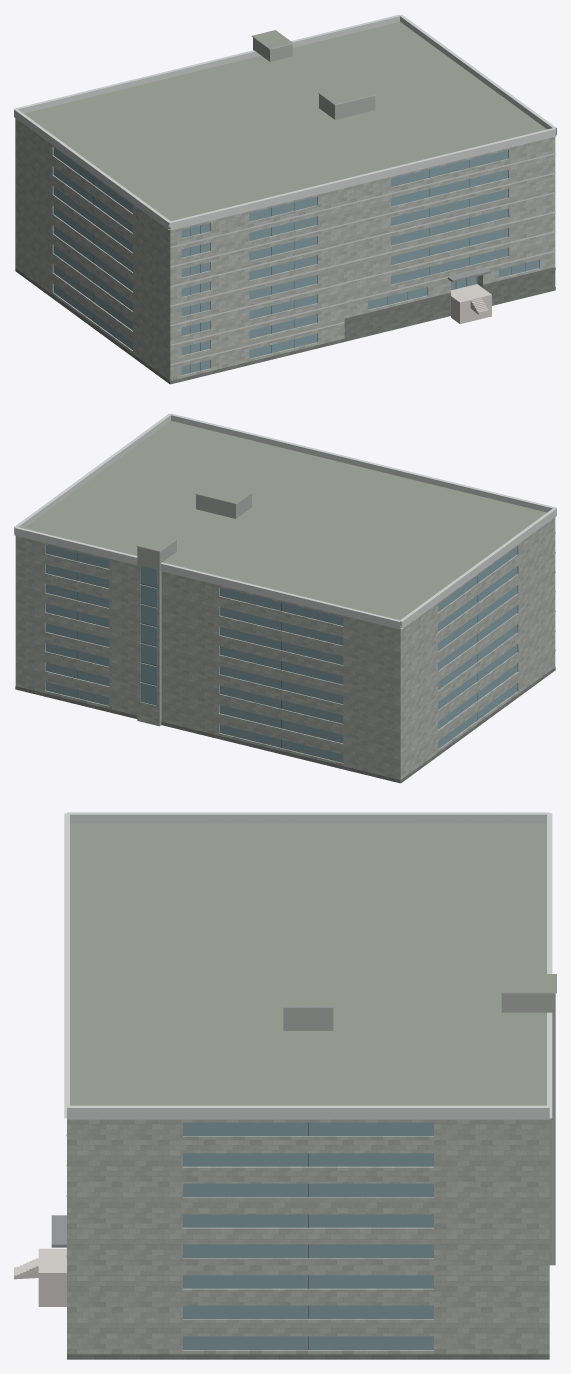
3 renders of one model, top to bottom at view 1: azimuth 30°, elevation 25°; view 2: azimuth 150°, elevation 25°; view 3: azimuth 270°, elevation 25°, orthographic. The views are drawn at different scales.
Parts seen in each view (by area): view 1: b38__wall, b38__roof, b38__glass, b38__trim, b38__base, b38__wall2, b38__entranceStair, b38__frame; view 2: b38__wall, b38__roof, b38__glass, b38__trim, b38__base, b38__wall2; view 3: b38__roof, b38__wall, b38__glass, b38__trim, b38__wall2, b38__base, b38__entranceStair.
Part boxes in pixels (x1,y1,x2,y2): b38__wall: (15, 118, 555, 383); b38__roof: (24, 22, 552, 341); b38__glass: (53, 147, 538, 374); b38__trim: (14, 14, 556, 365); b38__base: (15, 267, 555, 384); b38__wall2: (253, 38, 375, 119); b38__entranceStair: (451, 284, 491, 323); b38__frame: (93, 160, 525, 372); b38__wall: (15, 517, 555, 782); b38__roof: (24, 421, 546, 626); b38__glass: (45, 545, 517, 762); b38__trim: (14, 413, 556, 650); b38__base: (15, 667, 555, 783); b38__wall2: (137, 493, 251, 725); b38__roof: (70, 823, 556, 1105); b38__wall: (67, 1119, 549, 1354); b38__glass: (183, 1122, 433, 1349); b38__trim: (64, 812, 556, 1287); b38__wall2: (283, 993, 555, 1265); b38__base: (67, 1354, 549, 1359); b38__entranceStair: (14, 1248, 66, 1306).
Size of the model in its own units: 72.71 by 31.69 by 56.45.
10 materials, 2 textured.
